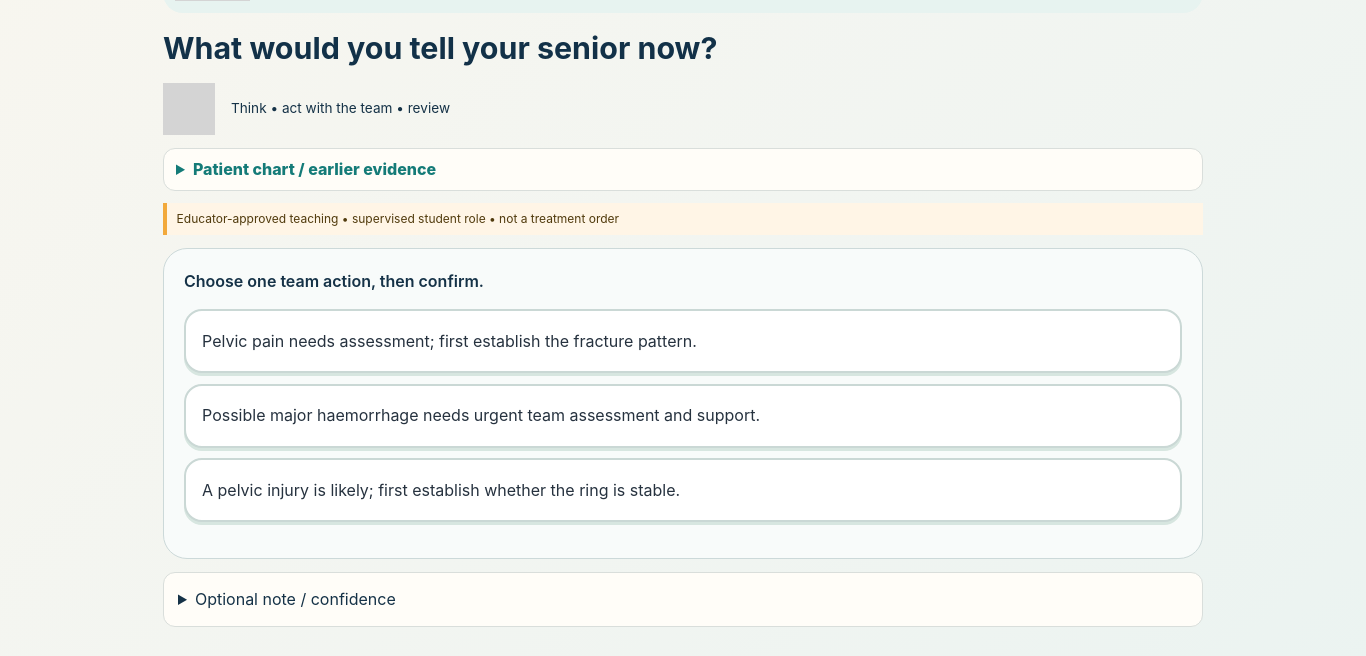
Scenario: station learning transitions › shows three action choices and enables confirmation only after selecting an action in the focused edition
Click the button "Possible major haemorrhage needs urgent team assessment and support." at (683, 416), box [184,384,1182,448]
(page scrolled)
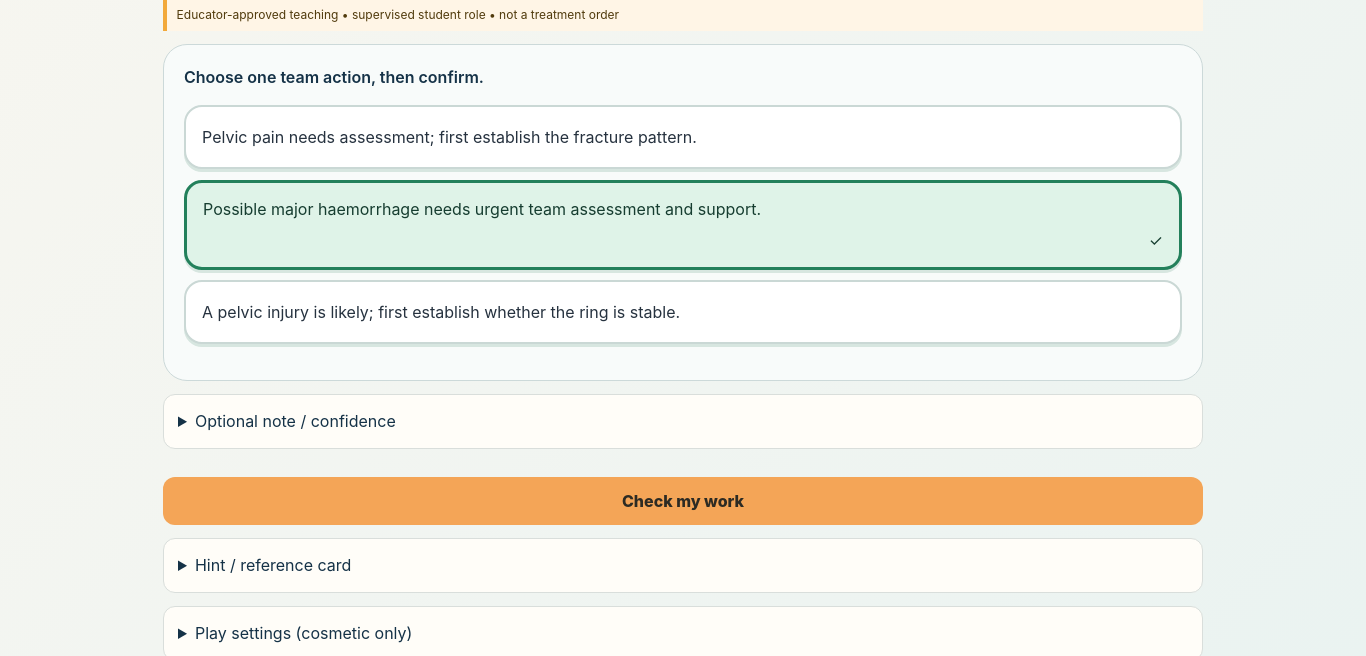
Now the button "Check my work" is enabled
Click the button "Check my work" at (683, 502), box [163,478,1203,526]
(page scrolled)
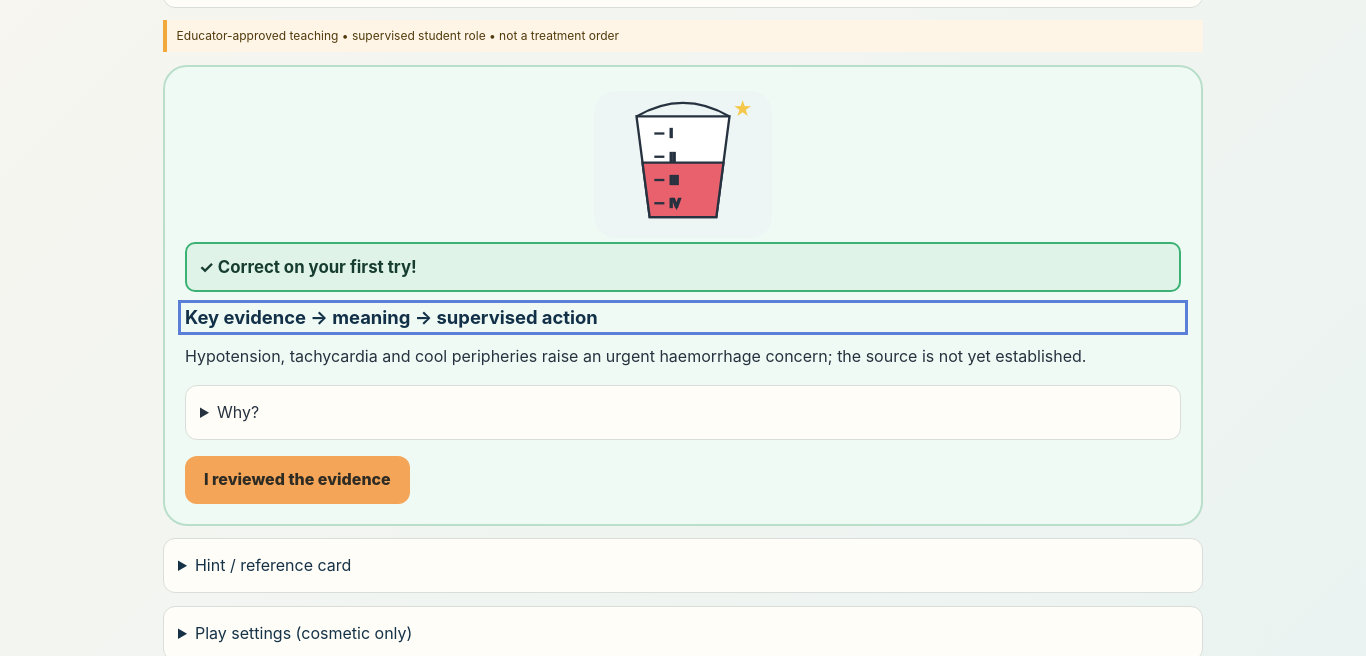
Now the button "I reviewed the evidence" is shown, box [185,456,410,504]
